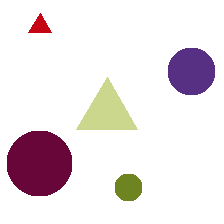circle: (7, 131, 71, 195), (168, 48, 214, 94), (115, 174, 141, 200)
triangle: (76, 77, 137, 129), (28, 13, 51, 32)
